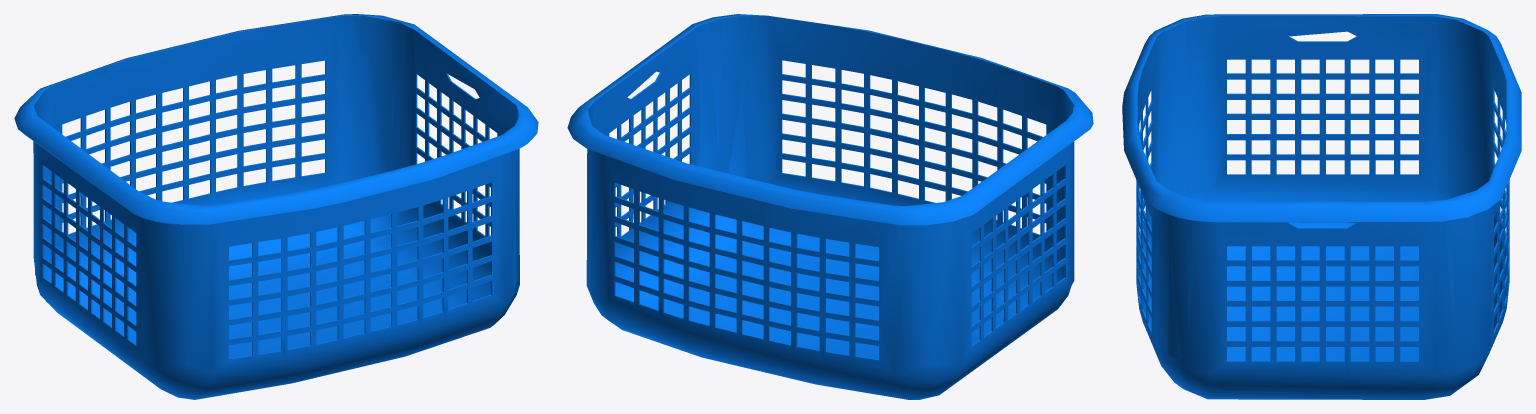
Rendered from laundry_basket.glb.
3 renders of one model, left to right at view 1: azimuth 30°, elevation 25°; view 2: azimuth 150°, elevation 25°; view 3: azimuth 270°, elevation 25°, orthographic. The views are drawn at different scales.
Parts seen in each view (by area): view 1: Object_2; view 2: Object_2; view 3: Object_2.
Boxes of the visible parts, x1,y1,x2,y2 form: Object_2: (14,14,538,399); Object_2: (567,14,1093,399); Object_2: (1122,14,1521,399).
Bounding box in the file's own units: 2.96 × 1.5 × 2.49.
